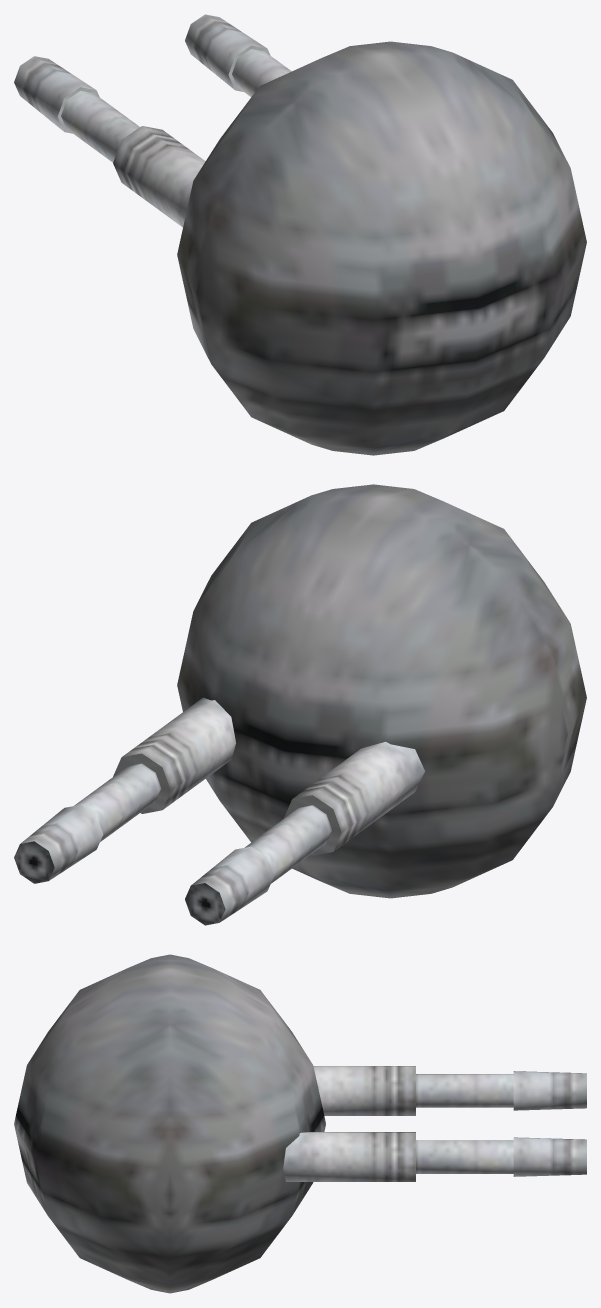
The model's file is lambda_turret_l0.fbx.
3 renders of one model, top to bottom at view 1: azimuth 30°, elevation 25°; view 2: azimuth 150°, elevation 25°; view 3: azimuth 270°, elevation 25°, orthographic. The views are drawn at different scales.
Visible parts, largest first — view 1: mesh_node; view 2: mesh_node; view 3: mesh_node.
Part boxes in pixels (x1=…): mesh_node: x1=14, y1=14, x2=586, y2=455; mesh_node: x1=14, y1=484, x2=586, y2=925; mesh_node: x1=14, y1=954, x2=586, y2=1293.
Size of the model in its own units: 1.5 by 1.5 by 2.53.
